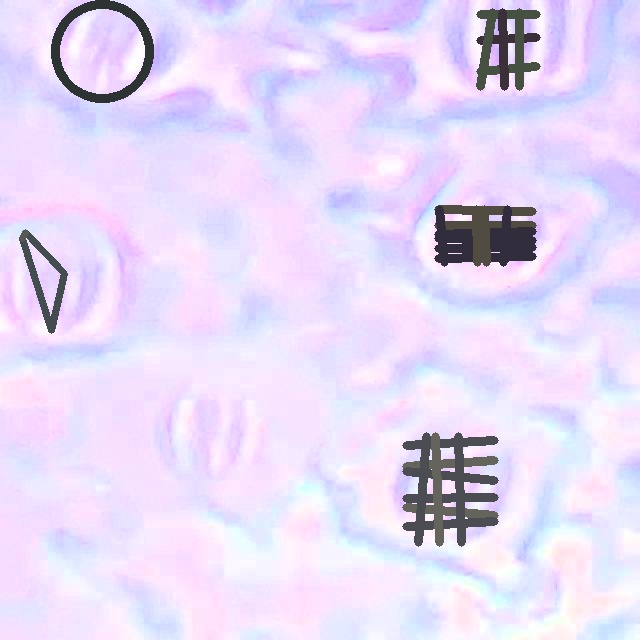close: (50, 0, 154, 102), (434, 205, 536, 266), (20, 229, 66, 332)
open: (402, 433, 497, 545), (476, 9, 540, 90)
